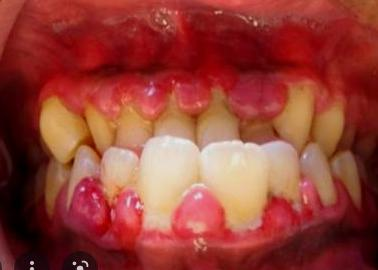Calculus: (33, 95, 93, 154), (307, 98, 345, 152), (278, 85, 309, 139)
Gingivitis: (49, 175, 144, 248), (163, 185, 234, 260), (219, 71, 297, 129), (246, 174, 301, 246), (161, 70, 212, 120), (119, 73, 169, 119), (288, 175, 329, 222), (318, 172, 355, 219)
